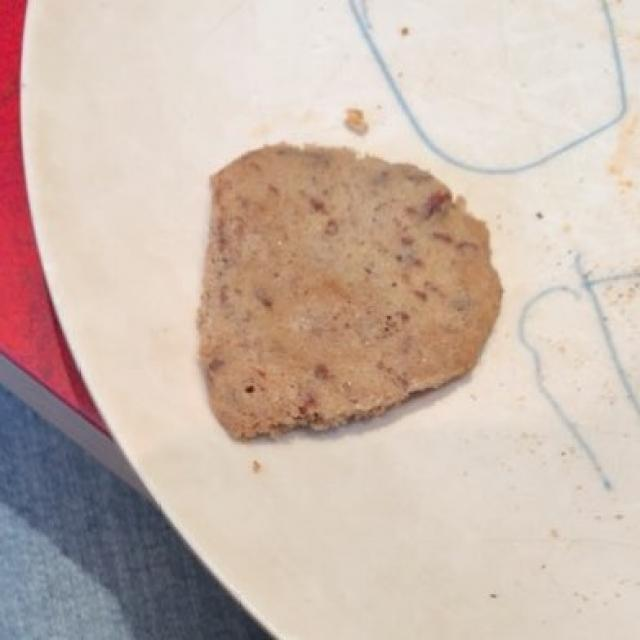cookies: (202, 148, 494, 436)
